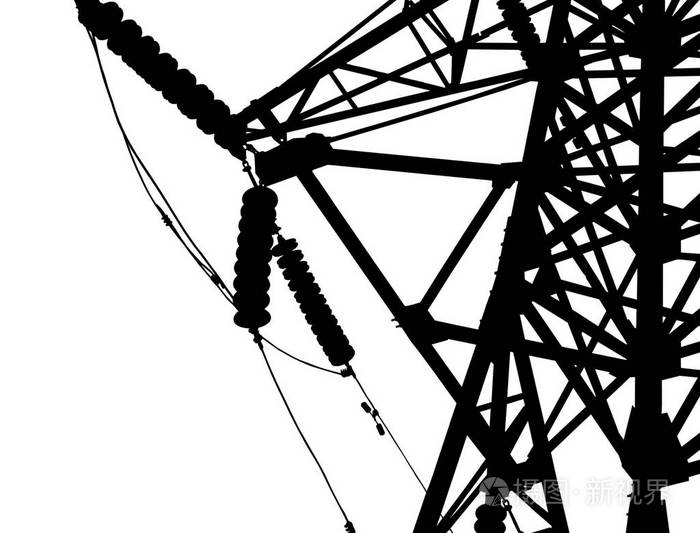insulator: (84, 1, 246, 147), (267, 237, 357, 370), (225, 184, 281, 333)
